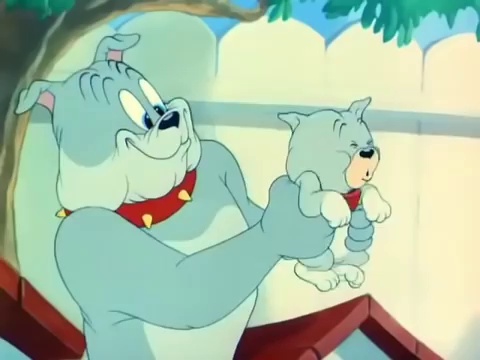spike: (14, 31, 208, 230)
